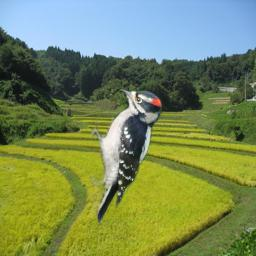Woodpecker: (91, 85, 164, 226)
